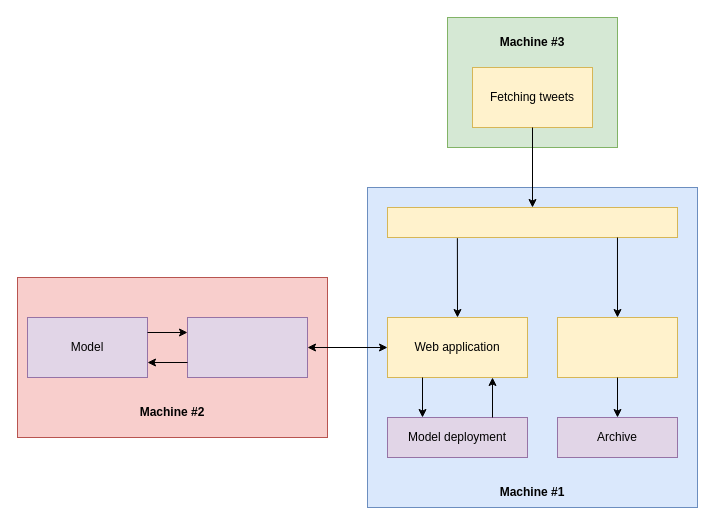
Some shapes in this 715 by 525 pixel diagram are drawn without their labels. The box of each missing label's shape, as (x1, y1, x2, y2) in pixels:
MLflow server: (556, 316, 678, 378)
Retraining monitoring server: (186, 316, 308, 378)
Reverse proxy: (386, 206, 678, 238)
